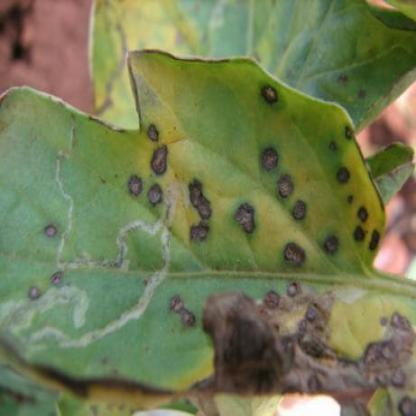tomato septoria leaf spot: (4, 43, 387, 384)
